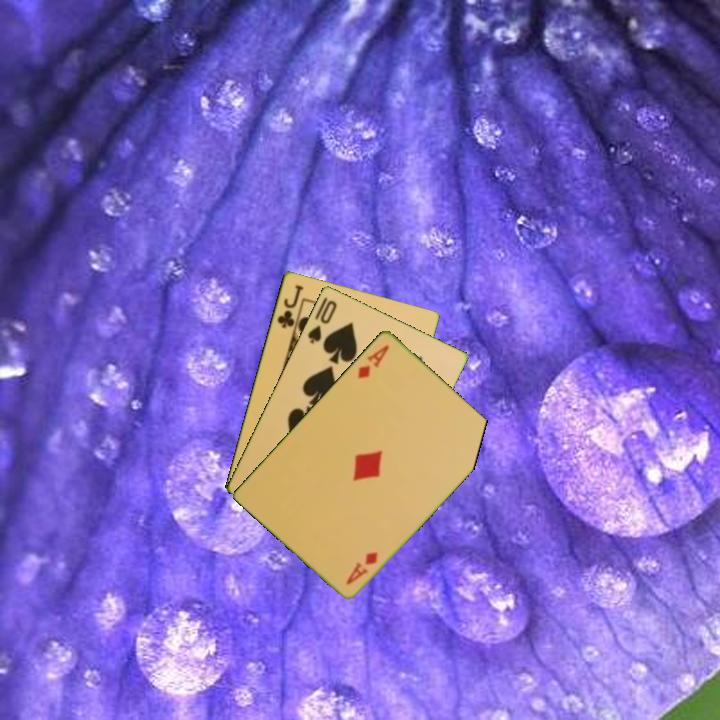10s: (304, 296, 340, 346)
Ad: (342, 547, 381, 587), (354, 341, 392, 381)
Jc: (273, 281, 306, 331)
